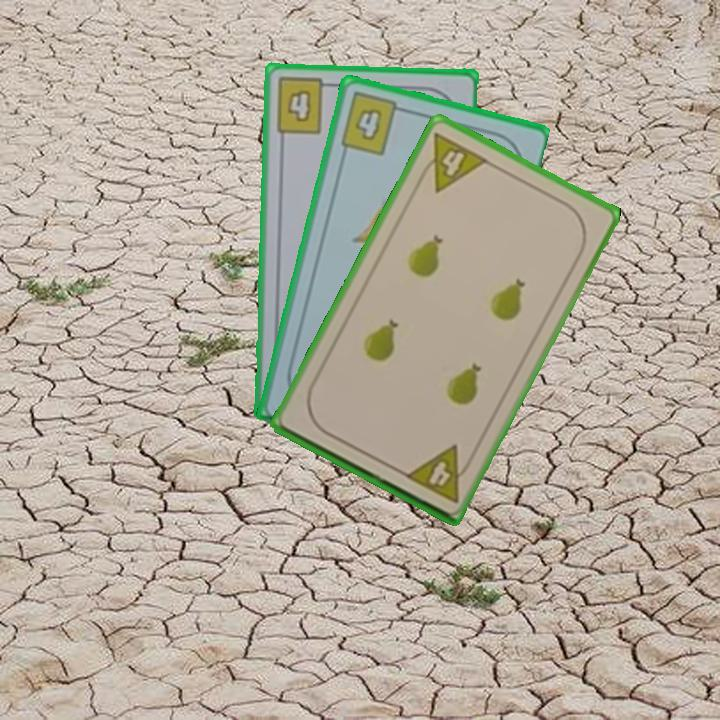4b: (336, 88, 409, 159), (272, 74, 337, 137)
4p: (413, 129, 491, 195), (401, 441, 477, 506)
